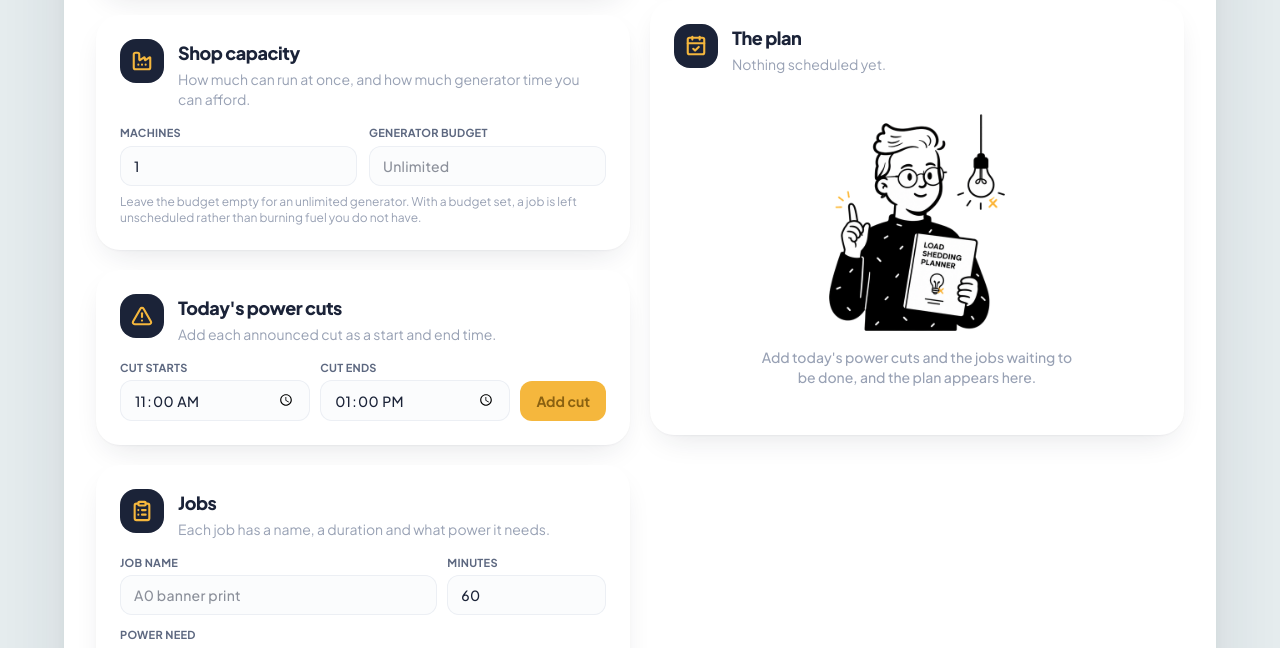
it: the planner in a browser › R1 — a cut running past midnight is kept, split at midnight
(page scrolled)
Replace the text in the time field labelled "Cut starts" with "22:00" at (215, 401), box [120, 380, 310, 421]
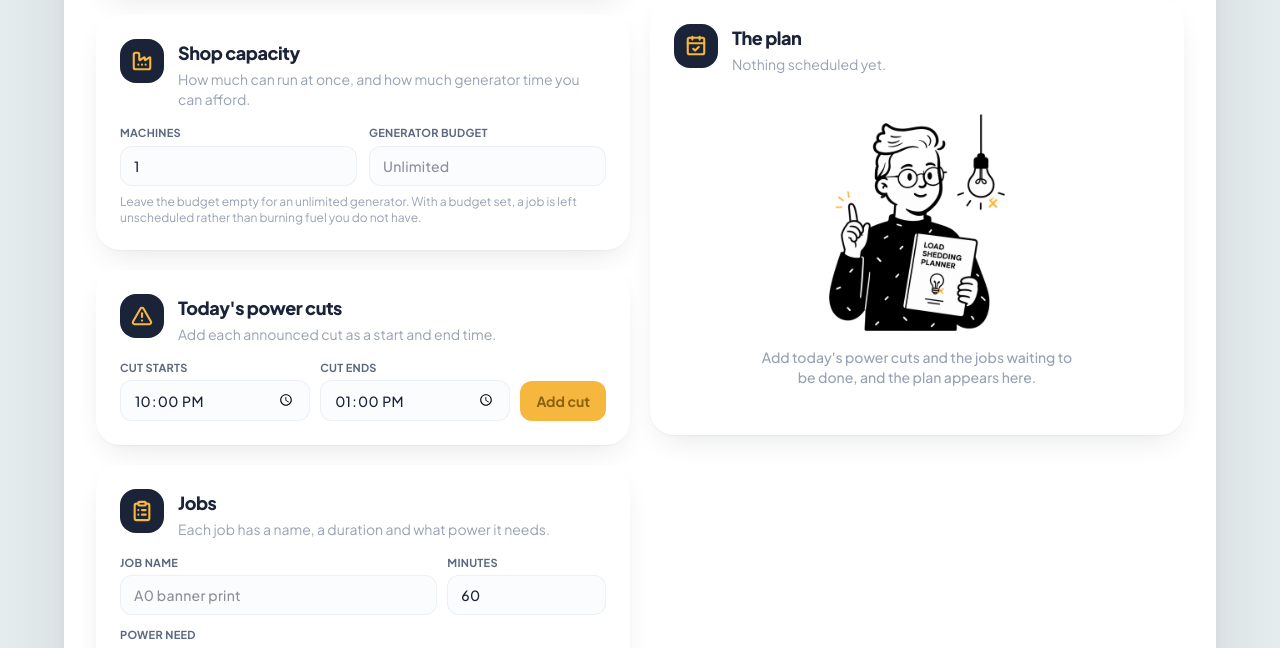
Replace the text in the time field labelled "Cut ends" with "02:00" at (415, 401), box [320, 380, 510, 421]
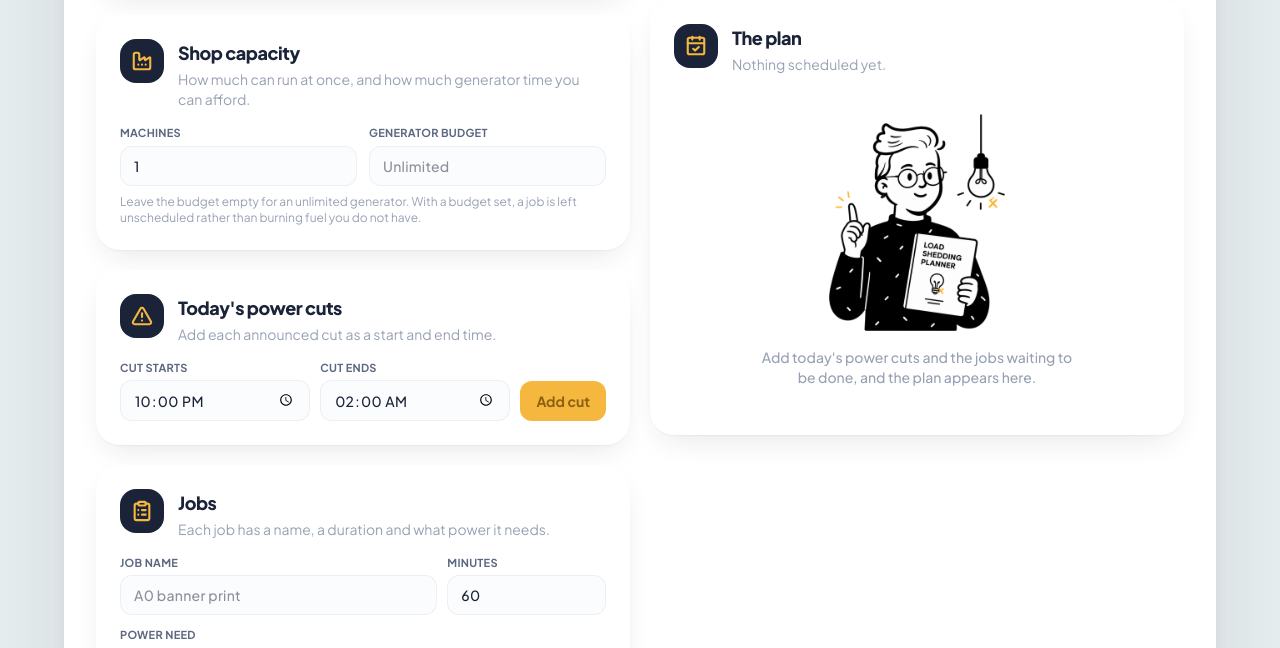
Click the button "Add cut" at (563, 401), box [520, 381, 606, 421]
(page scrolled)
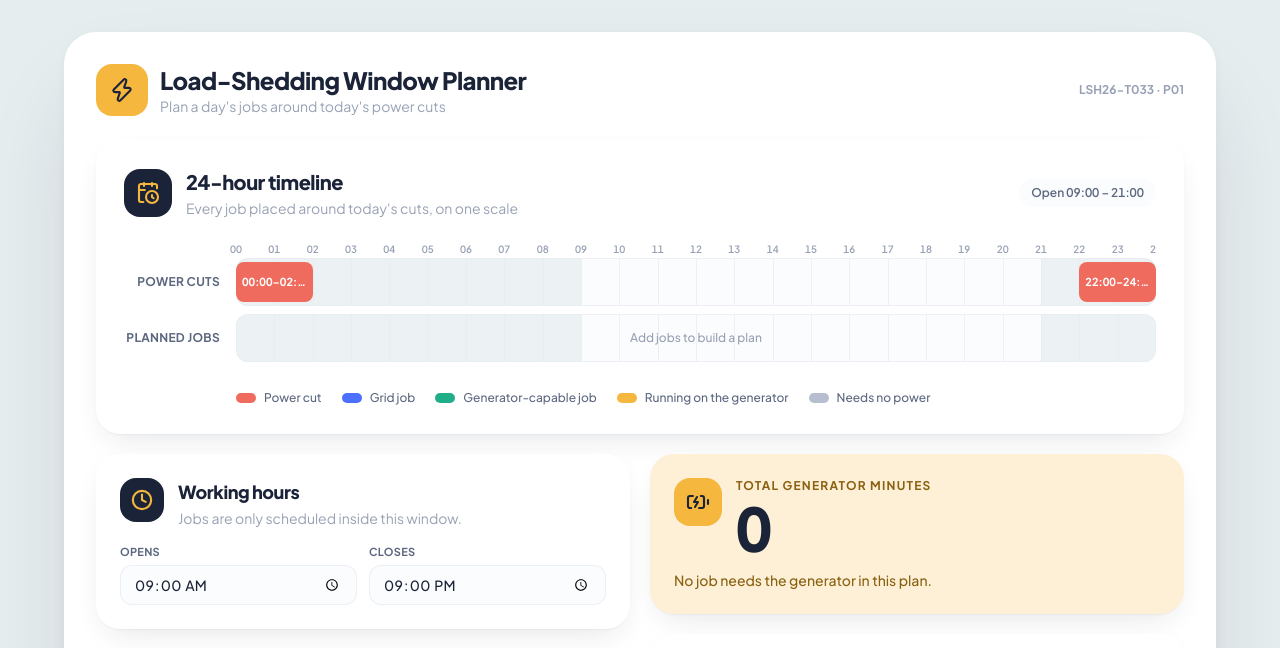
Expected: the element titled "Power cut 00:00 to 02:00" is shown, [236, 262, 313, 302]
Expected: the element titled "Power cut 22:00 to 24:00" is shown, [1079, 262, 1156, 302]
